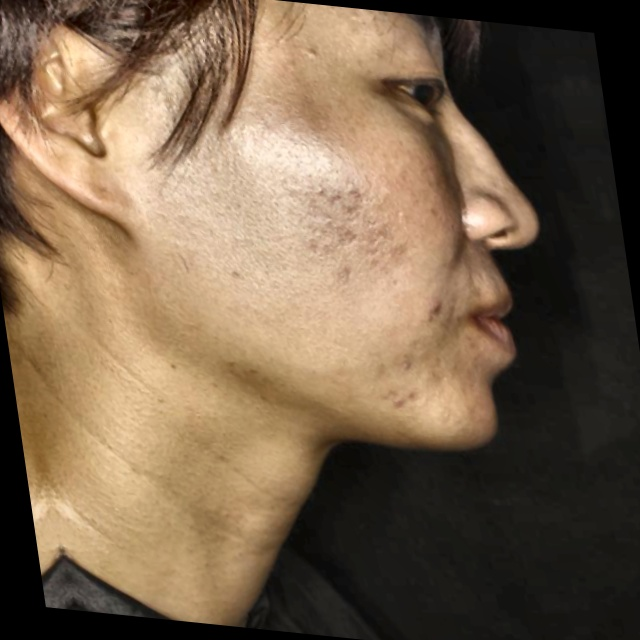comedone: (412, 293, 459, 334), (383, 379, 425, 421)
